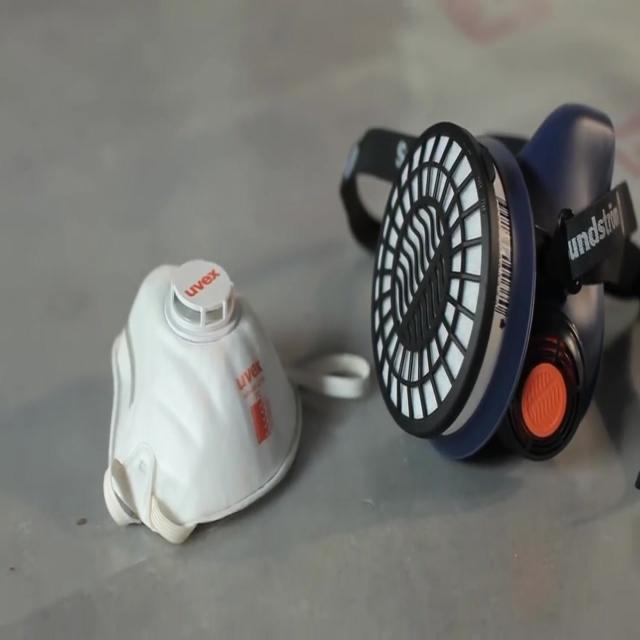Mask: (363, 103, 615, 470), (101, 243, 311, 521)
